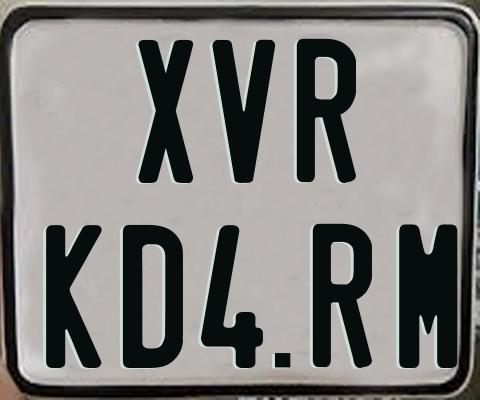4: (200, 222, 268, 371)
D: (121, 225, 186, 369)
K: (43, 223, 102, 369)
M: (397, 221, 462, 383)
R: (294, 37, 357, 183), (312, 224, 372, 373)
V: (210, 39, 278, 186)
X: (137, 40, 194, 189)
